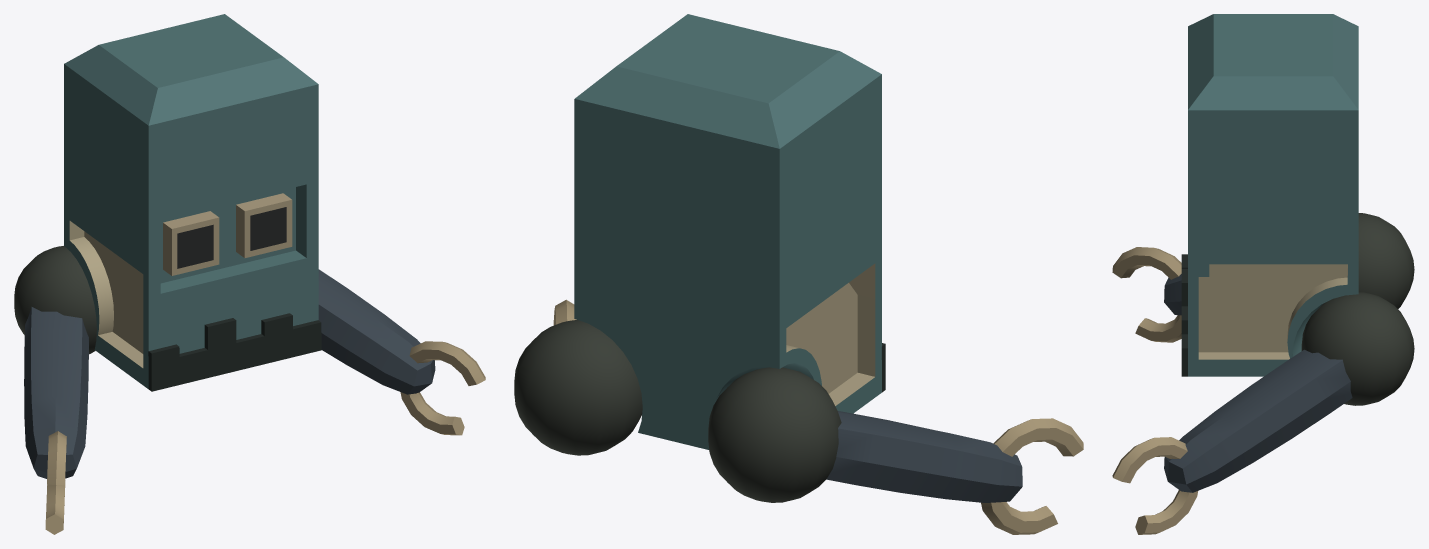
Rendered from robotmechanica.fbx.
3 views of the same model, side by side, from view 1: azimuth 30°, elevation 25°; view 2: azimuth 150°, elevation 25°; view 3: azimuth 270°, elevation 25° (orthographic). The views are drawn at different scales.
Parts seen in each view (by area): view 1: Torus; view 2: Torus; view 3: Torus.
Boxes of the visible parts, box(x1,y1,x2,y2) form: Torus: box(14, 14, 485, 534); Torus: box(514, 14, 1083, 534); Torus: box(1112, 14, 1414, 534).
Size of the model in its own units: 308 by 261 by 182.
Materials: 1 (1 with a texture image).
